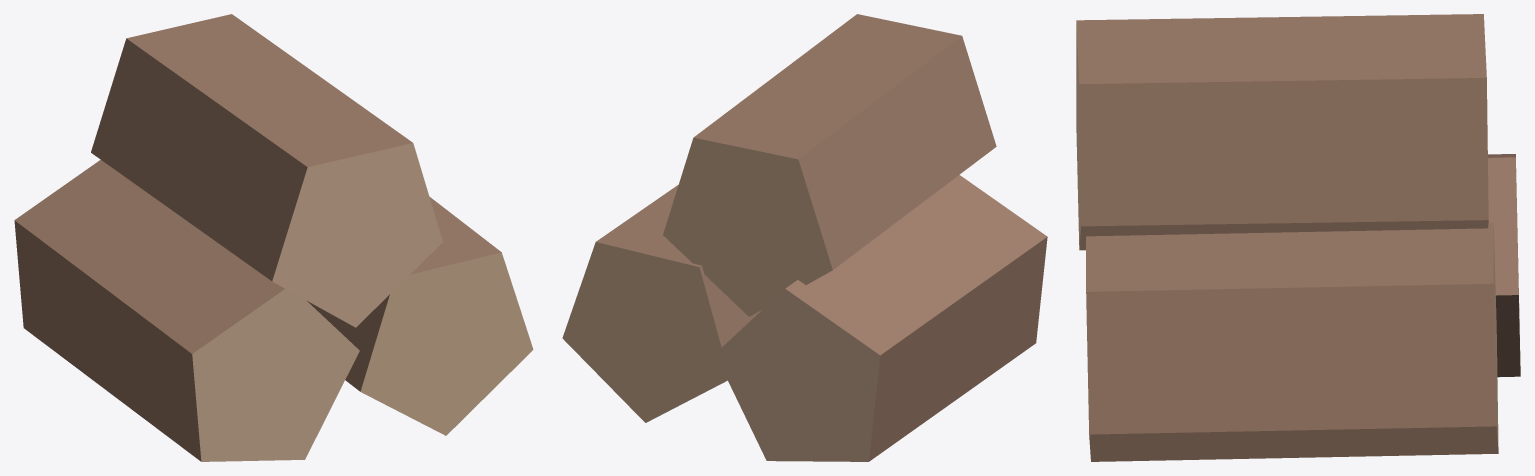
Rendered from ItemWood.fbx.
3 views of the same model, side by side, from view 1: azimuth 30°, elevation 25°; view 2: azimuth 150°, elevation 25°; view 3: azimuth 270°, elevation 25° (orthographic). The views are drawn at different scales.
Visible parts, largest first — view 1: ItemWood; view 2: ItemWood; view 3: ItemWood.
Part boxes in pixels (bbox=[...]): ItemWood: bbox=[14, 14, 533, 461]; ItemWood: bbox=[562, 14, 1047, 461]; ItemWood: bbox=[1076, 14, 1520, 461].
Bounding box in the file's own units: 11.07 × 9.8 × 10.9.
